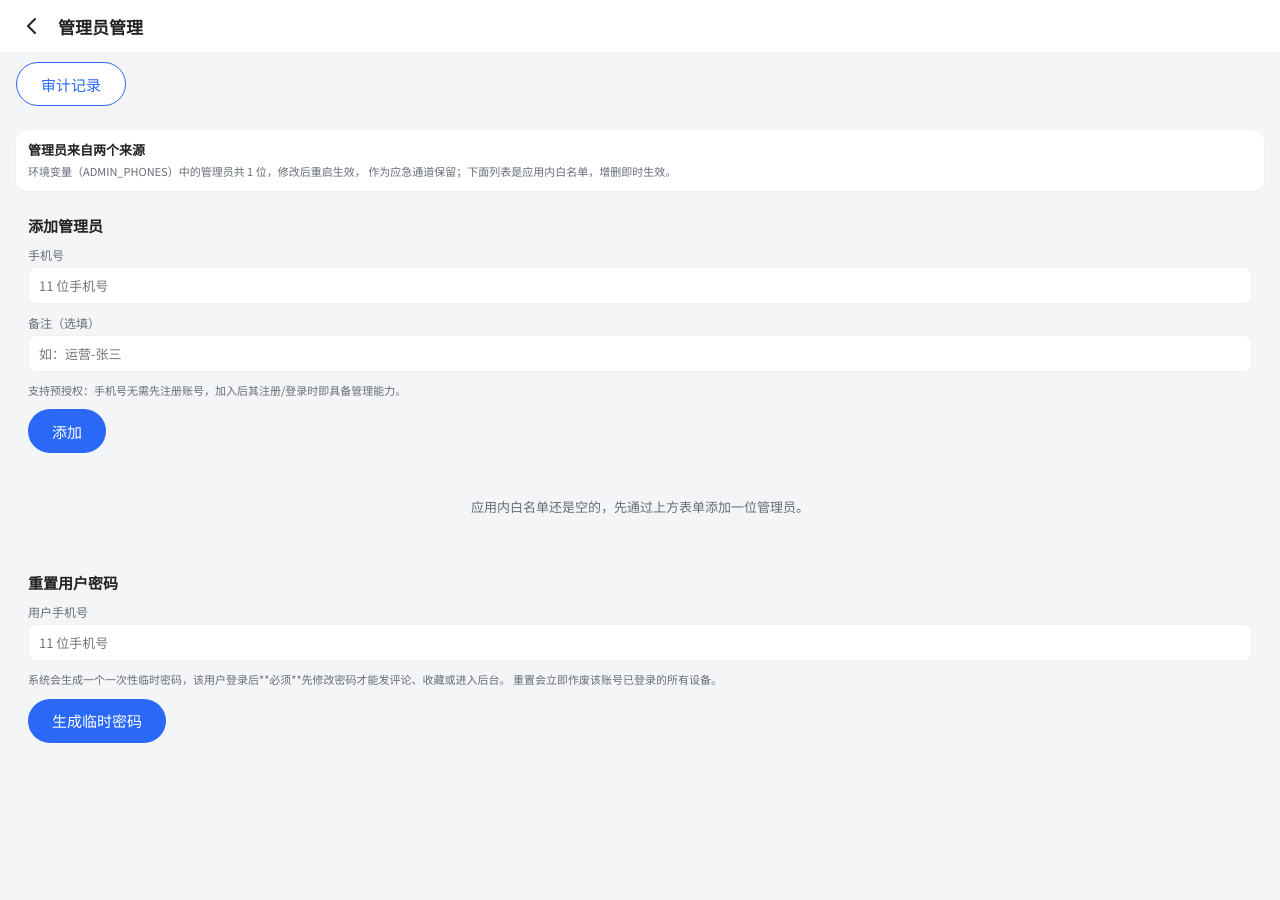
views/AdminUsers › 添加冲突（409）时展示服务端文案
The width and height of the screenshot is (1280, 900).
Type "13900000005" into the field named "管理员手机号" at (640, 285), box x1=28 y1=267 x2=1252 y2=304
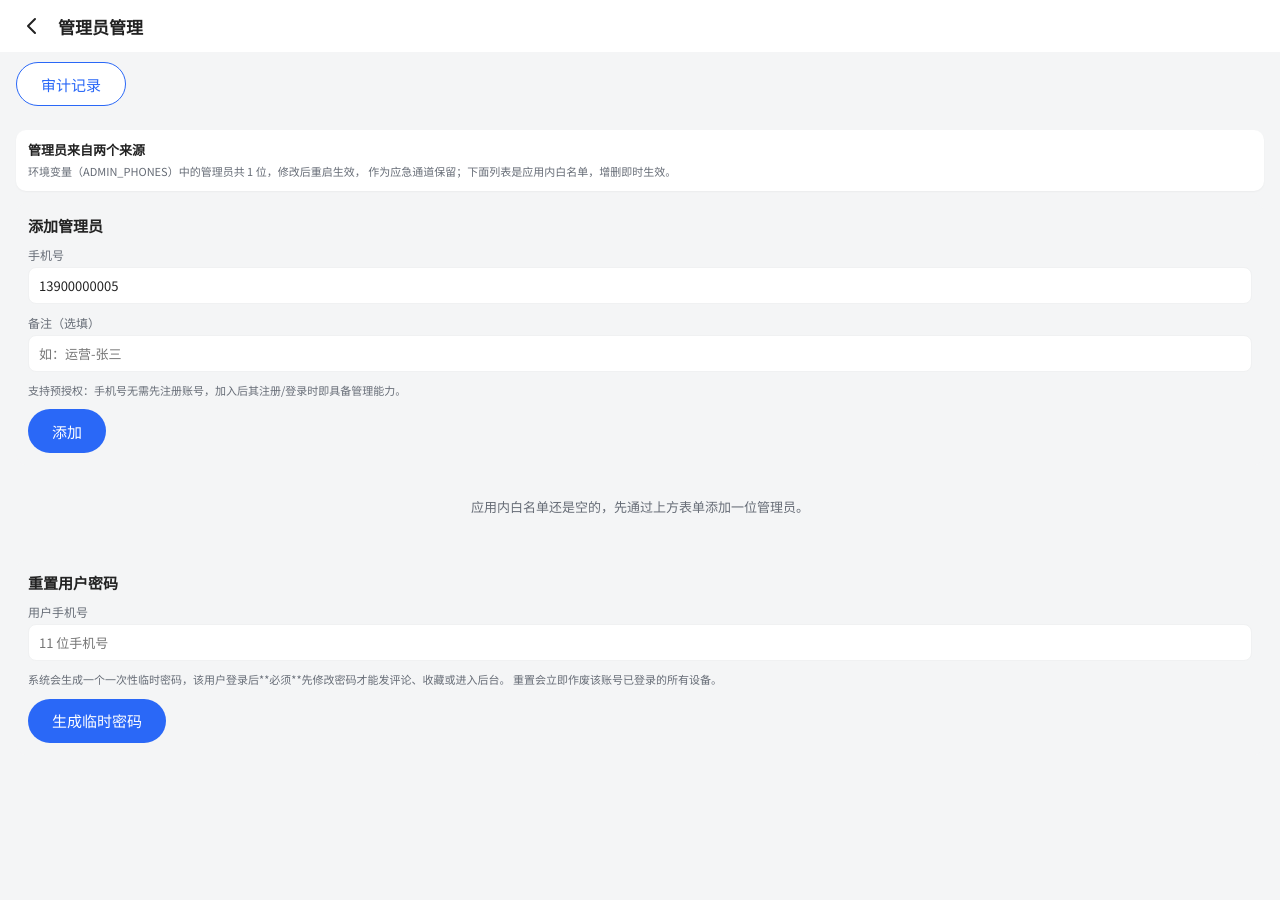
Submit the form "添加管理员 手机号 备注（选填） 支持预授权：手机号无需先注册账号，加入后其注册/登录时即具备管理能力。 添加", box x1=16 y1=203 x2=1264 y2=465
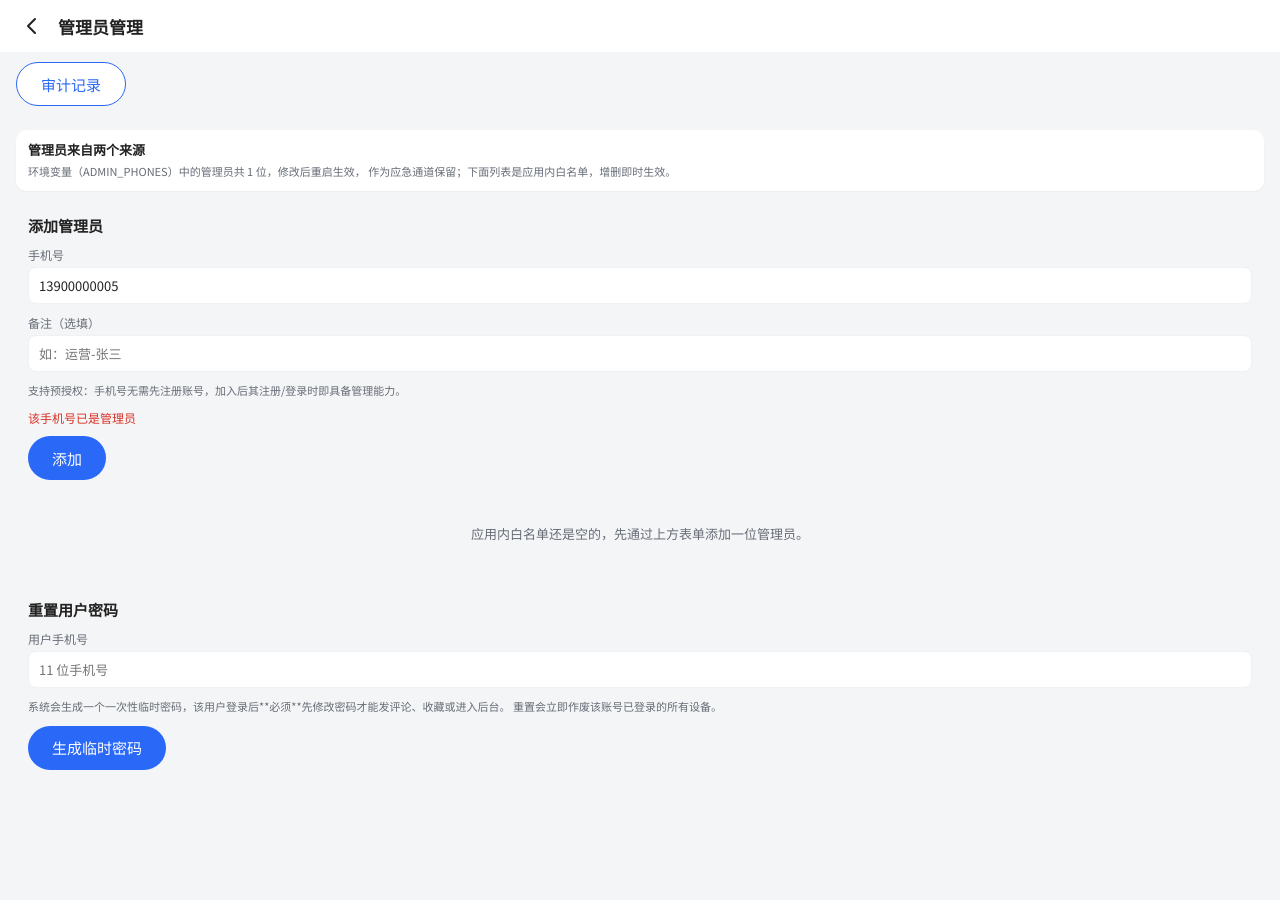
Check: the text "该手机号已是管理员" is shown, box x1=28 y1=409 x2=136 y2=426
